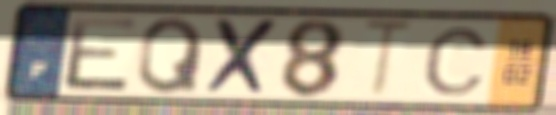8: (277, 17, 348, 101)
C: (420, 25, 493, 98)
E: (62, 13, 142, 94)
Q: (135, 15, 207, 97)
T: (359, 17, 420, 103)
X: (202, 16, 284, 99)
